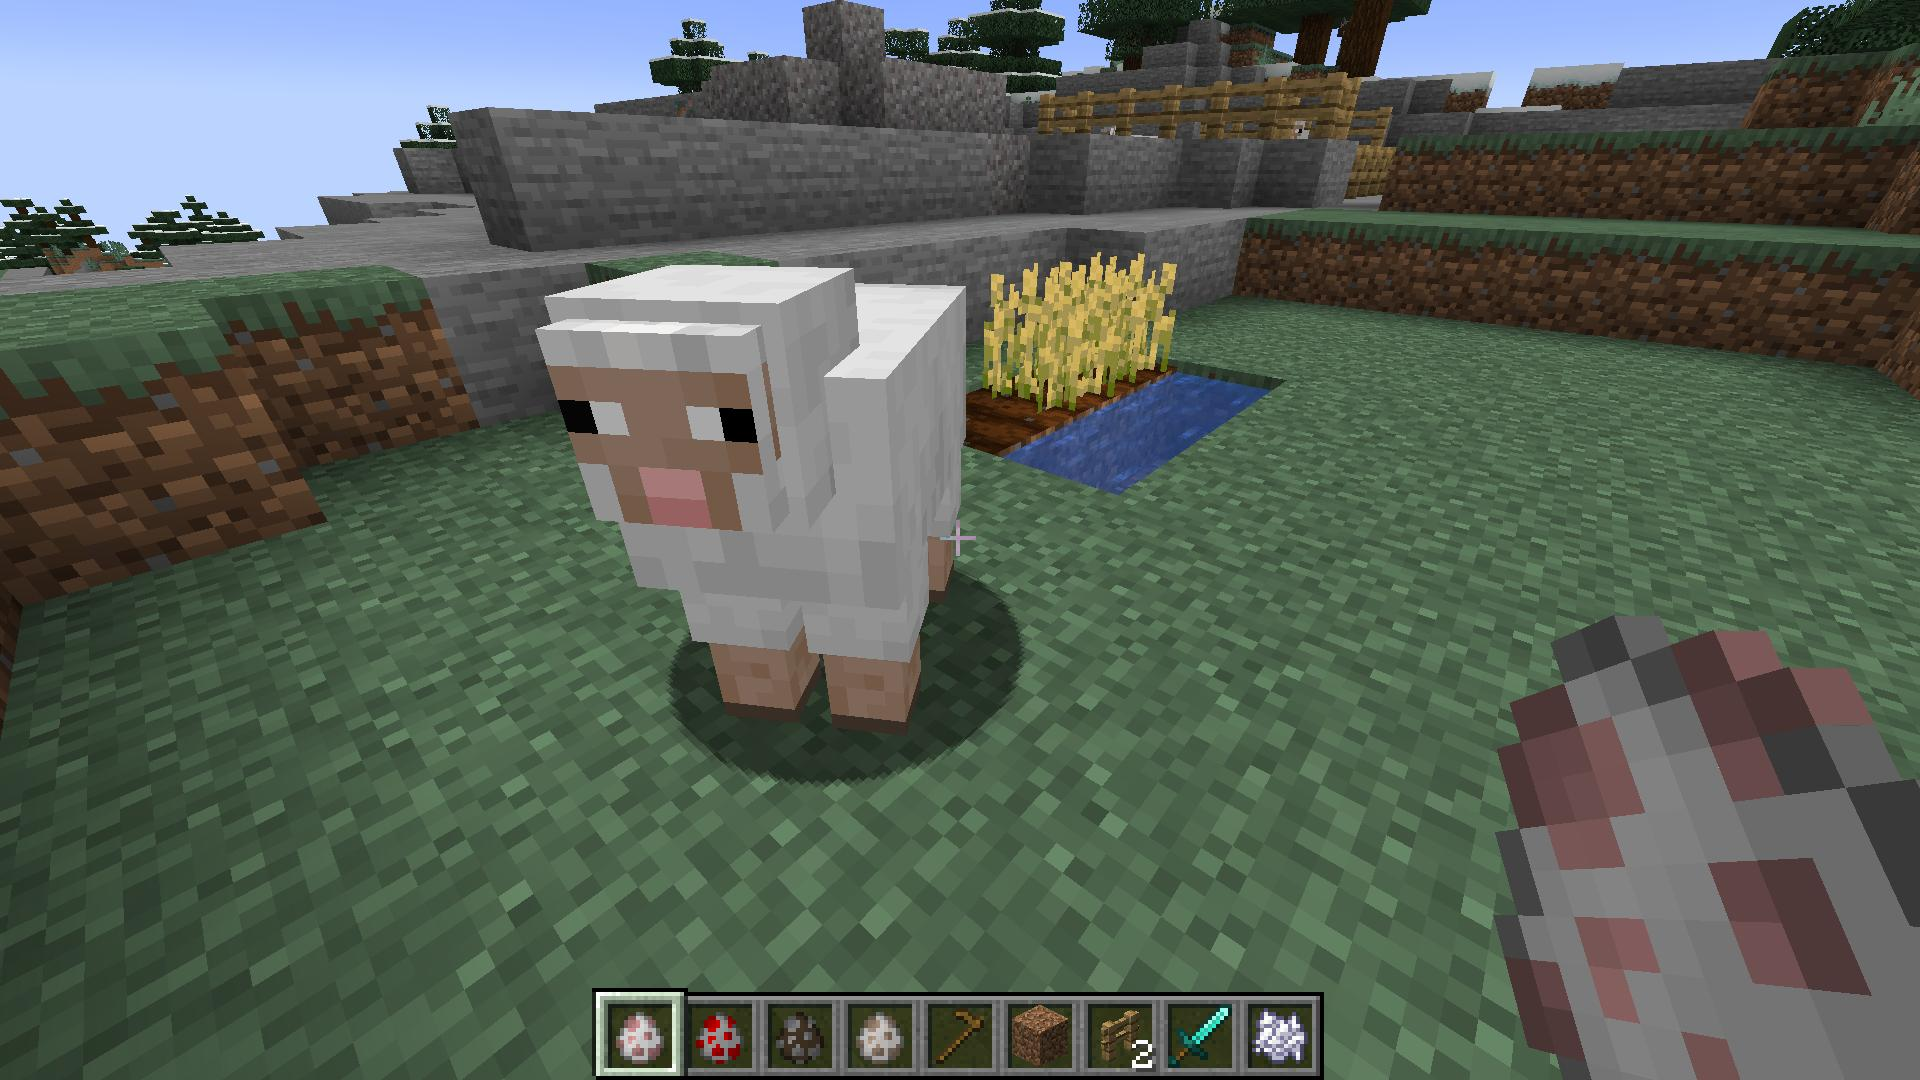sheep: (539, 256, 968, 740)
